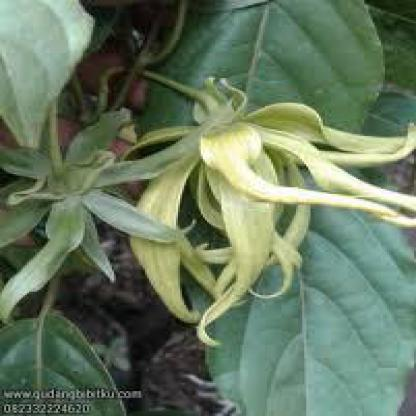Kenanga: (173, 93, 330, 290), (5, 147, 117, 253)
